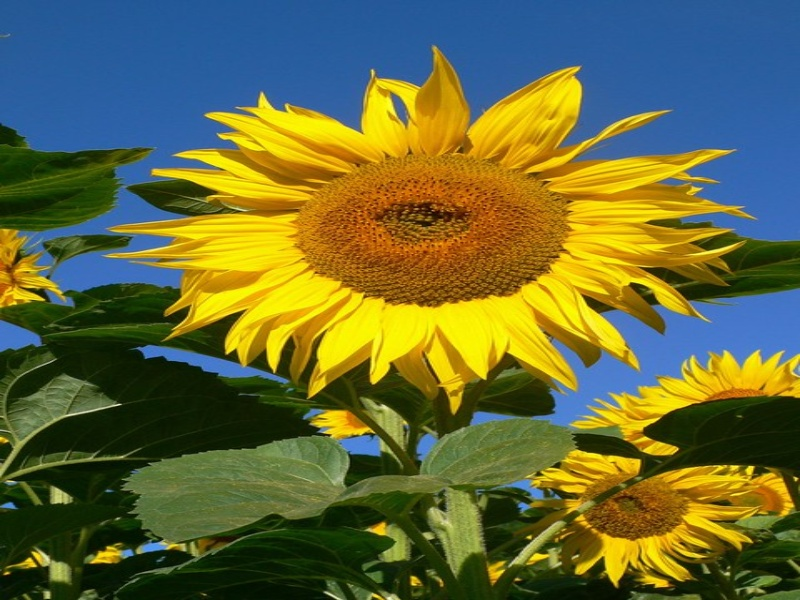sunflower: (147, 37, 731, 400)
